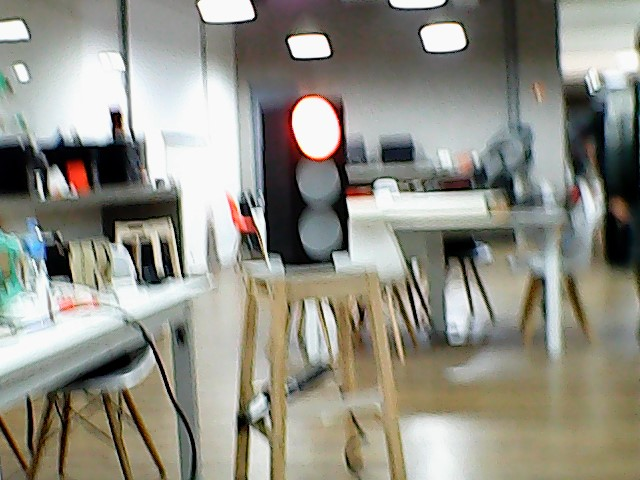vermelho: (259, 95, 354, 259)
